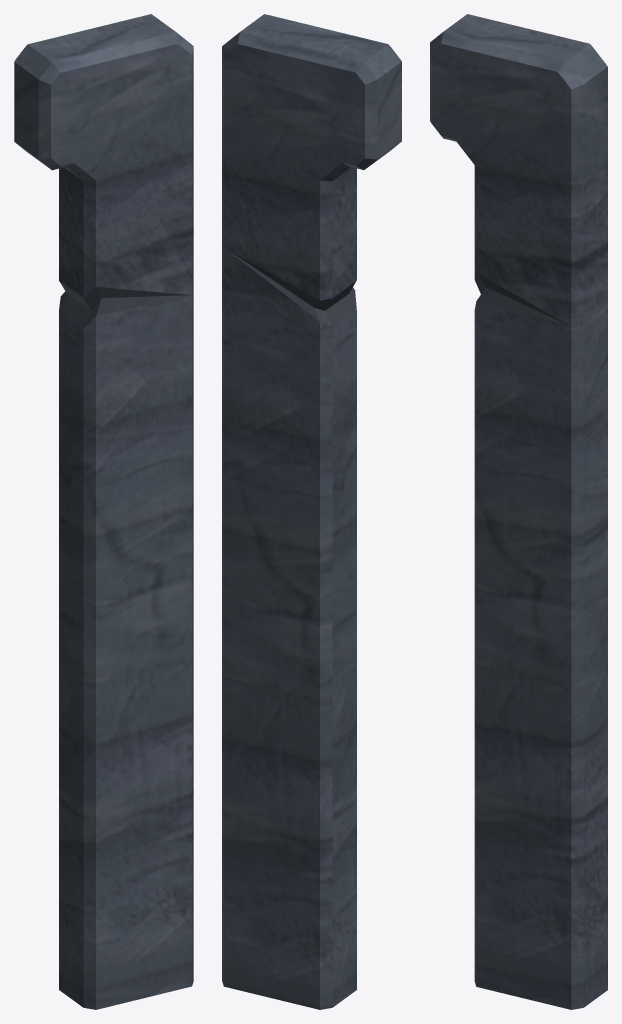
Rendered from StandColumn03.glb.
The picture shows the model from 3 angles, left to right: view 1: azimuth 30°, elevation 25°; view 2: azimuth 150°, elevation 25°; view 3: azimuth 330°, elevation 25°; orthographic projection.
Parts seen in each view (by area): view 1: StandColumn03; view 2: StandColumn03; view 3: StandColumn03.
Part boxes in pixels (bbox=[...]): StandColumn03: bbox=[14, 14, 193, 1009]; StandColumn03: bbox=[222, 14, 401, 1009]; StandColumn03: bbox=[430, 14, 607, 1009].
Size of what is drawn, in the model's own units: 2.51 by 14.72 by 0.9877.
Materials: 1 (1 with a texture image).
